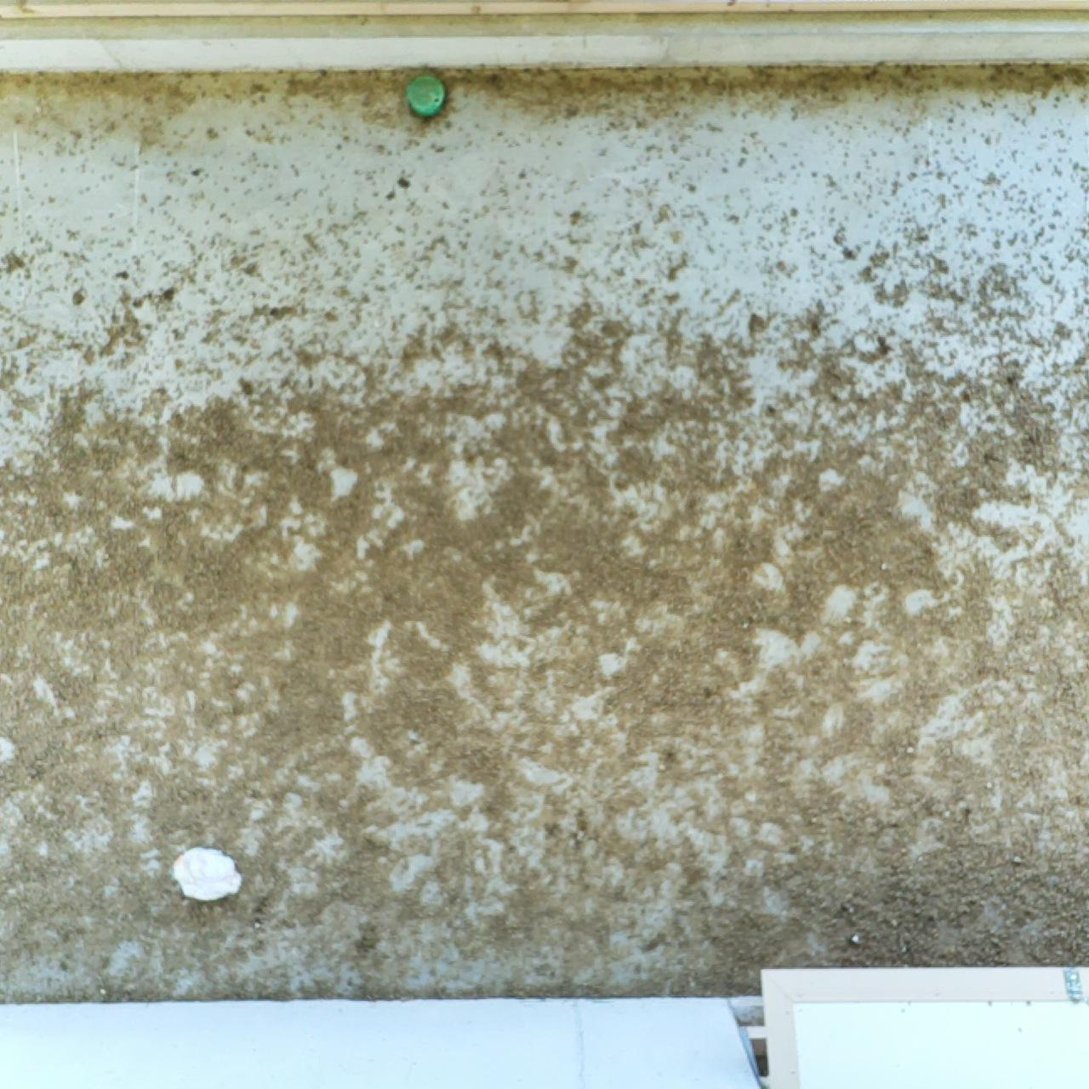chicken: (162, 842, 252, 904)
